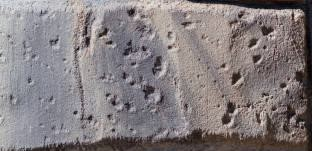Spalling: (1, 8, 307, 139)
